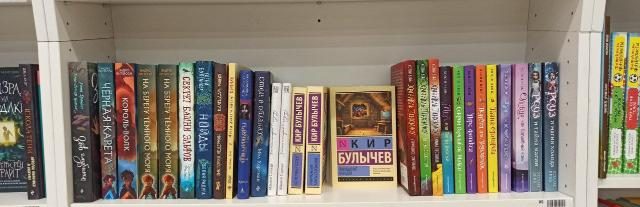book-s-spine: (68, 62, 93, 203), (115, 63, 137, 200), (136, 65, 158, 200), (607, 32, 627, 174), (97, 63, 117, 200), (19, 64, 39, 200), (158, 65, 178, 200), (622, 33, 640, 175), (251, 71, 271, 197), (196, 61, 212, 200), (179, 63, 195, 200), (405, 60, 421, 196), (288, 87, 307, 195), (417, 60, 432, 196), (305, 86, 323, 195), (429, 59, 443, 196), (238, 70, 252, 200), (545, 62, 559, 192), (515, 64, 529, 193), (440, 66, 454, 194), (214, 64, 227, 200), (277, 83, 292, 196), (529, 63, 542, 193), (464, 65, 477, 194), (453, 66, 466, 194), (268, 83, 282, 196), (476, 65, 488, 194), (601, 16, 610, 179), (487, 65, 498, 193), (226, 63, 236, 199), (501, 64, 511, 193)
